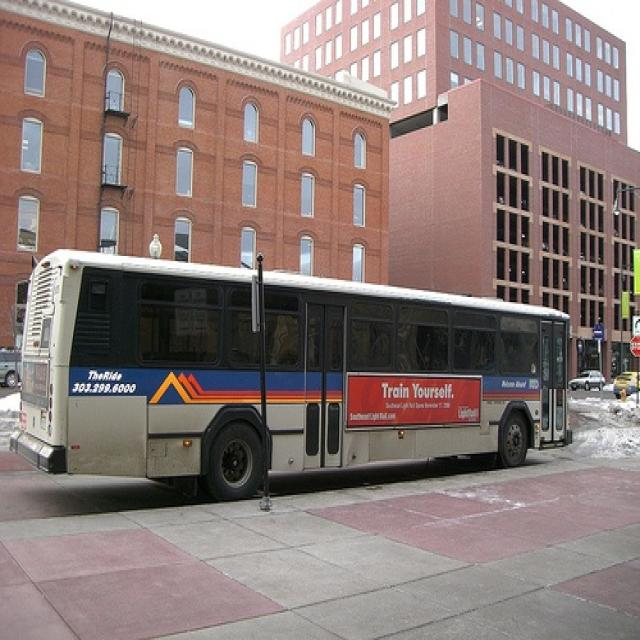bus: (8, 246, 574, 502)
car: (571, 367, 607, 394)
